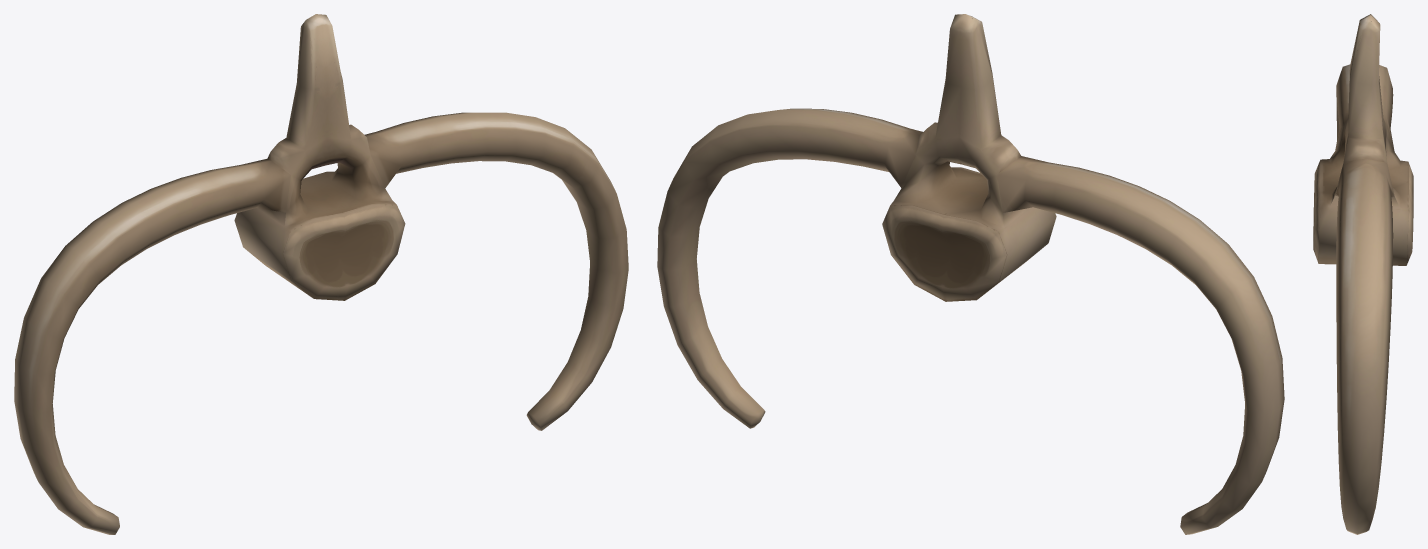
Rendered from DE_Vertebrae_02.fbx.
The picture shows the model from 3 angles, left to right: view 1: azimuth 30°, elevation 25°; view 2: azimuth 150°, elevation 25°; view 3: azimuth 270°, elevation 25°; orthographic projection. The views are drawn at different scales.
Parts seen in each view (by area): view 1: DE_Vertebrae_02; view 2: DE_Vertebrae_02; view 3: DE_Vertebrae_02.
Boxes of the visible parts, left/top/right/bottom form: DE_Vertebrae_02: left=14, top=14, right=628, bottom=534; DE_Vertebrae_02: left=657, top=14, right=1284, bottom=534; DE_Vertebrae_02: left=1313, top=14, right=1413, bottom=534.
Size of the model in its own units: 2.15 by 1.57 by 0.3371.
